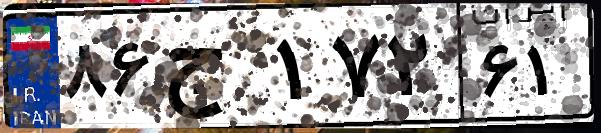1: (270, 28, 330, 110), (525, 38, 570, 115)
2: (385, 28, 445, 110)
6: (475, 38, 525, 113), (110, 28, 158, 98)
7: (330, 28, 385, 110)
8: (57, 26, 110, 100)
ج: (158, 20, 270, 120)
